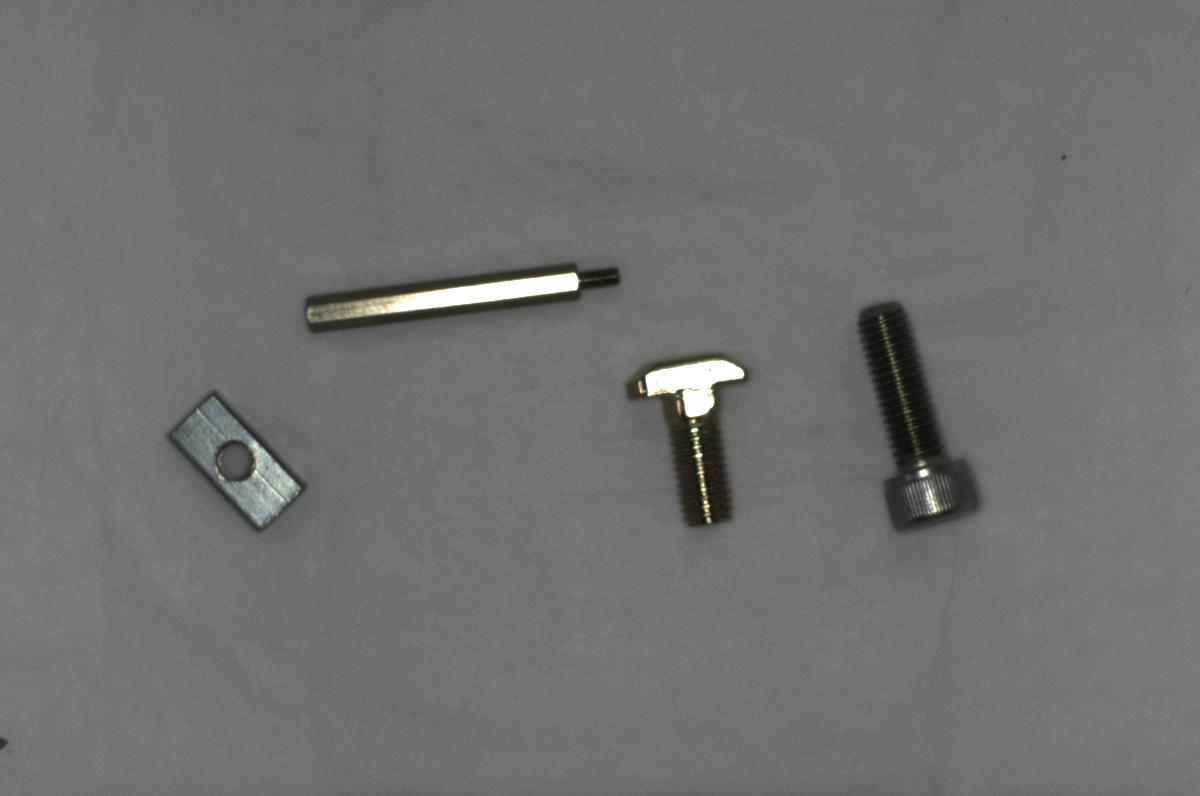Hexagon screw: (852, 293, 981, 535)
Hexagonal steel column: (297, 260, 627, 338)
Rectangular nut: (165, 389, 304, 541)
T-shaped screw: (620, 346, 754, 532)
